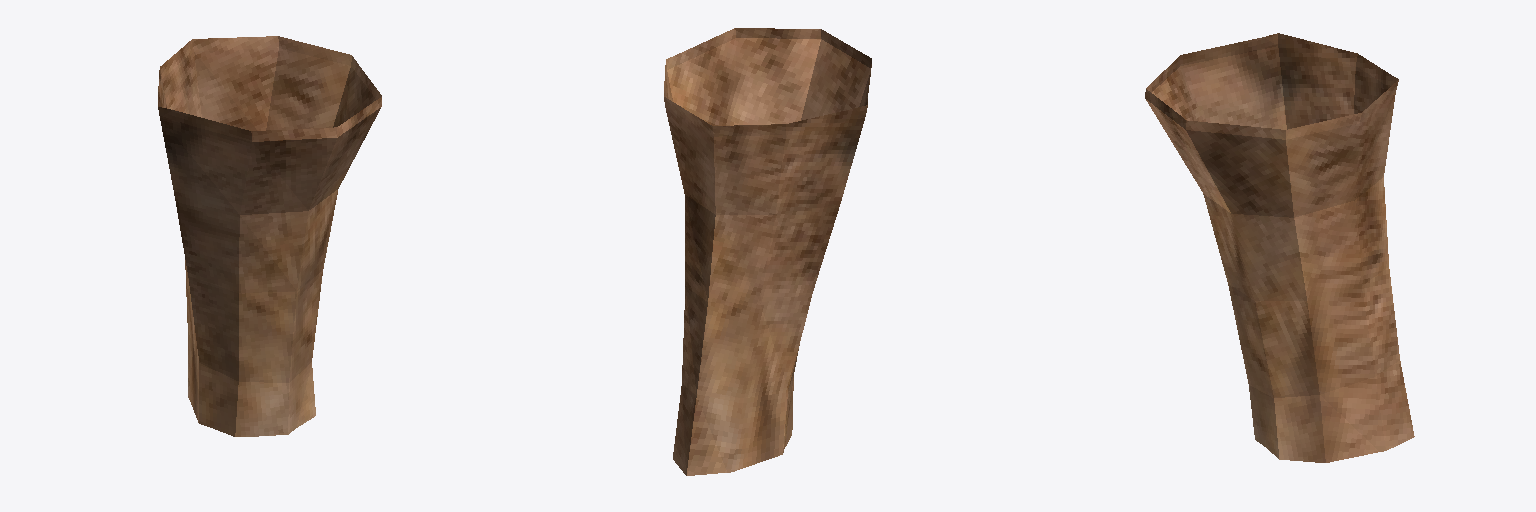
The picture shows the model from 3 angles: view 1: azimuth 30°, elevation 25°; view 2: azimuth 150°, elevation 25°; view 3: azimuth 270°, elevation 25°; orthographic projection.
Parts seen in each view (by area): view 1: TR_Rodilla; view 2: TR_Rodilla; view 3: TR_Rodilla.
Part boxes in pixels (x1,y1,x2,y2): TR_Rodilla: (158,36,381,436); TR_Rodilla: (664,28,871,475); TR_Rodilla: (1145,33,1414,462).
Bounding box in the file's own units: 0.2436 × 0.4092 × 0.2865.
1 materials, 1 textured.